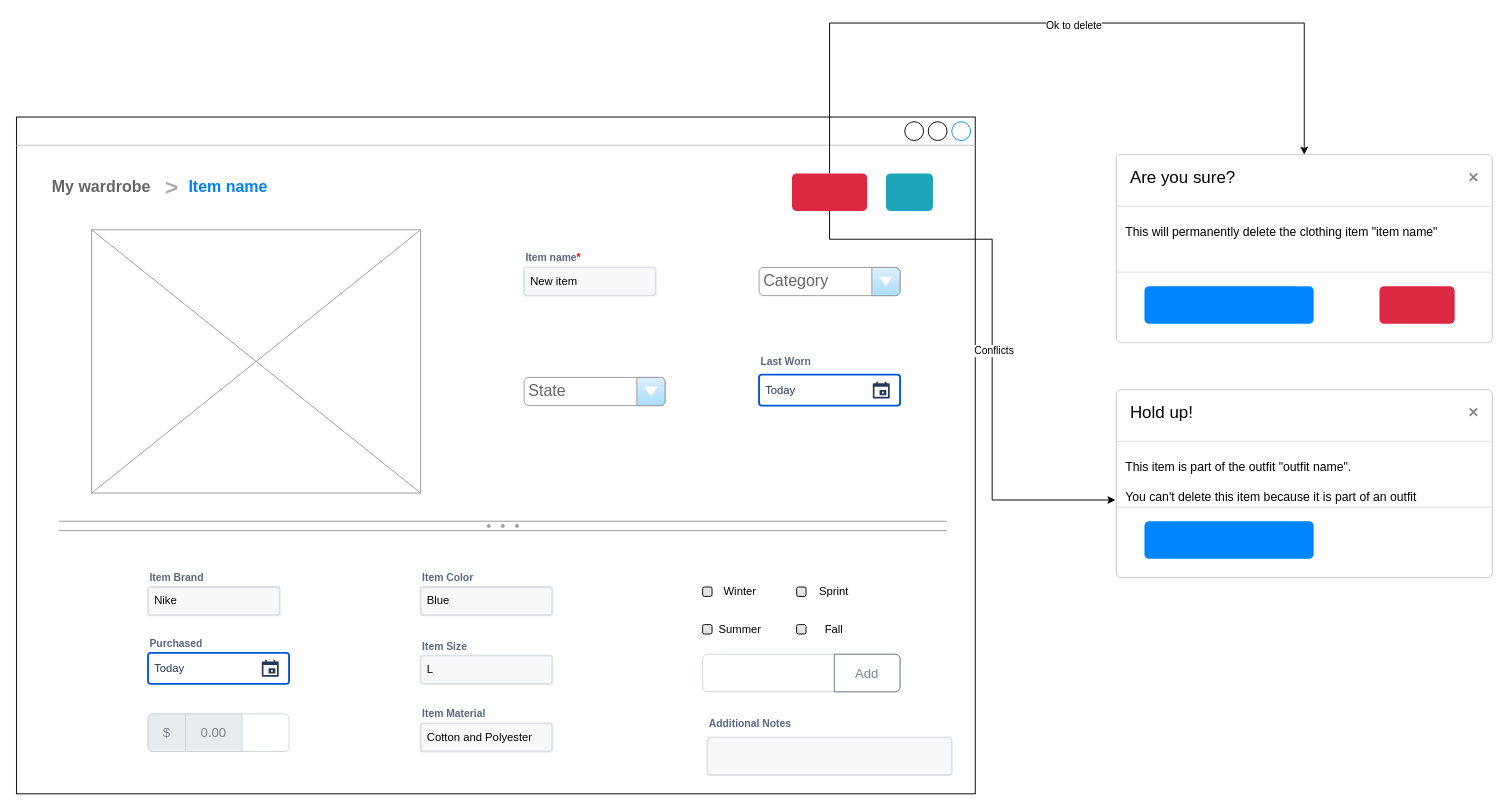
Some shapes in this 1509 by 810 pixel diagram are drawn without their labels. Here are the shapes that lost their labels. From the top down, the centre of each, then its label:
pixel 829 192: Delete
pixel 908 192: Edit
pixel 1228 304: No, I still like this thing
pixel 1416 304: Yes, do it
pixel 1228 539: Ok
pixel 801 672: Occasion
pixel 829 756: Watermelon Squad
